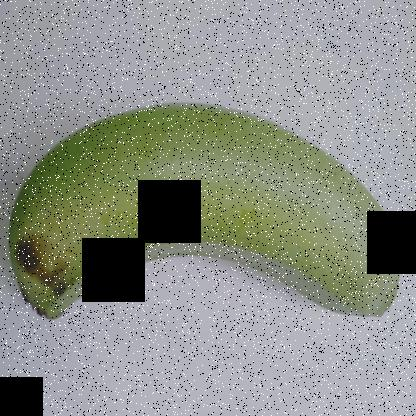freshunripe: (0, 86, 408, 340)
